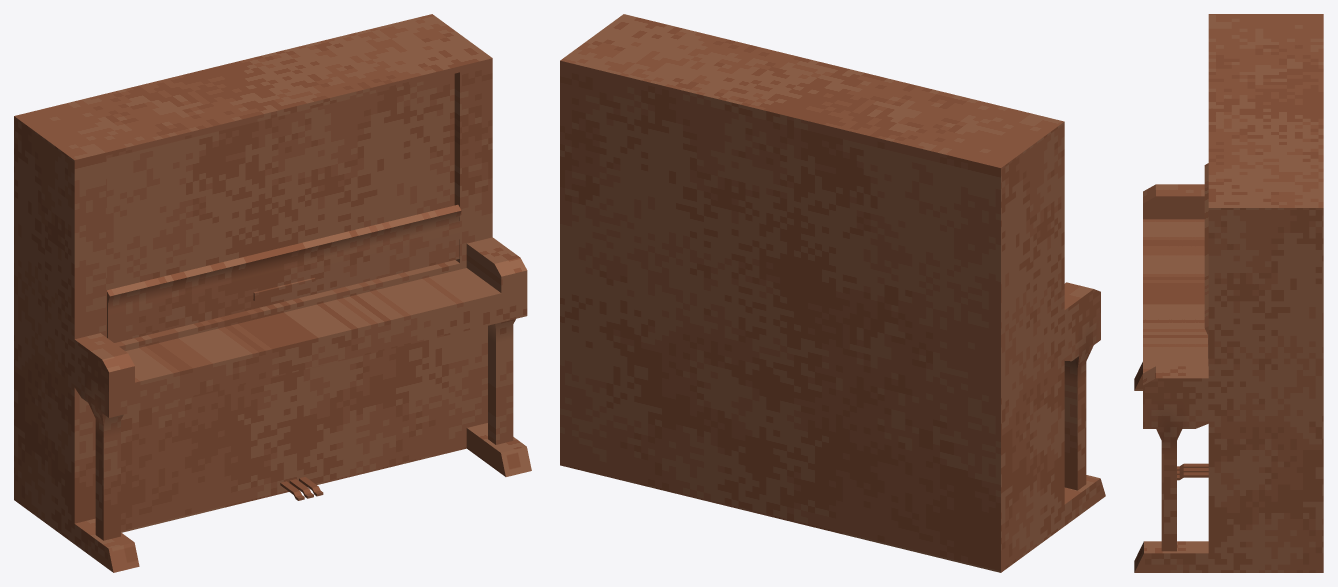
The model's file is piyano_pixel.fbx.
3 views of the same model, side by side, from view 1: azimuth 30°, elevation 25°; view 2: azimuth 150°, elevation 25°; view 3: azimuth 270°, elevation 25° (orthographic). The views are drawn at different scales.
Visible parts, largest first — view 1: piyano_pixel; view 2: piyano_pixel; view 3: piyano_pixel.
Part boxes in pixels (x1=…): piyano_pixel: x1=14, y1=14, x2=531, y2=572; piyano_pixel: x1=560, y1=14, x2=1105, y2=572; piyano_pixel: x1=1134, y1=14, x2=1323, y2=572.
Bounding box in the file's own units: 248 × 218 × 102.
